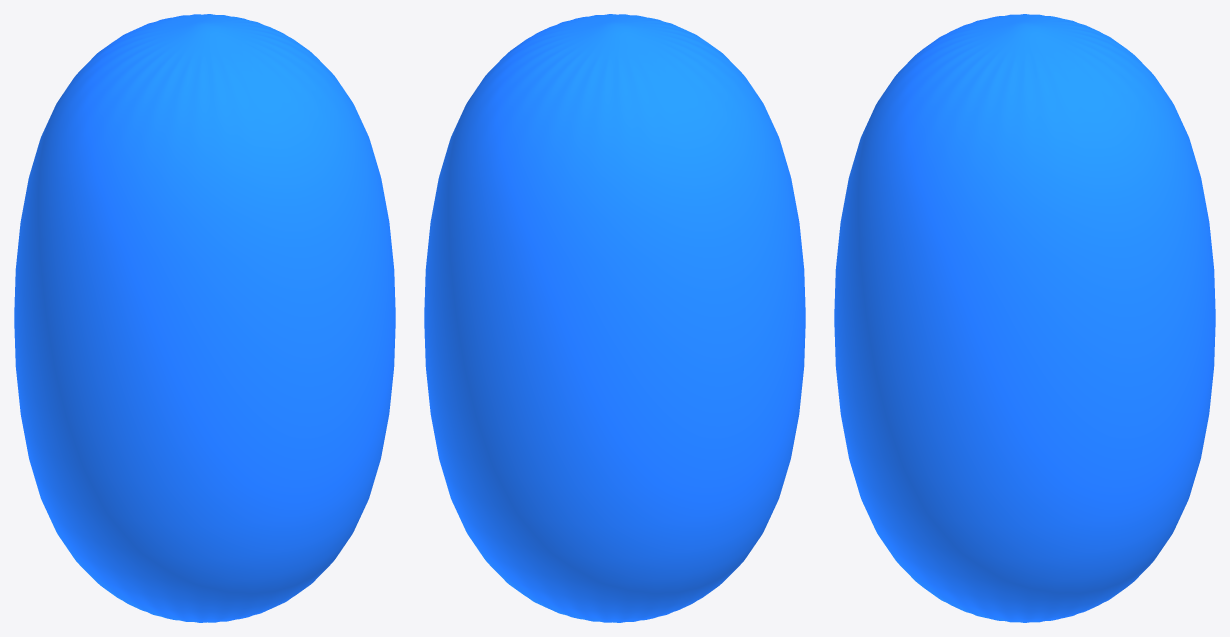
The model's file is blue_pill.glb.
The picture shows the model from 3 angles, left to right: view 1: azimuth 30°, elevation 25°; view 2: azimuth 150°, elevation 25°; view 3: azimuth 270°, elevation 25°; orthographic projection.
Visible parts, largest first — view 1: Cylinder; view 2: Cylinder; view 3: Cylinder.
Boxes of the visible parts, <box> form: Cylinder: <box>14,14,395,622</box>; Cylinder: <box>424,14,805,622</box>; Cylinder: <box>834,14,1215,622</box>.
Bounding box in the file's own units: 1.03 × 1.74 × 1.03.
